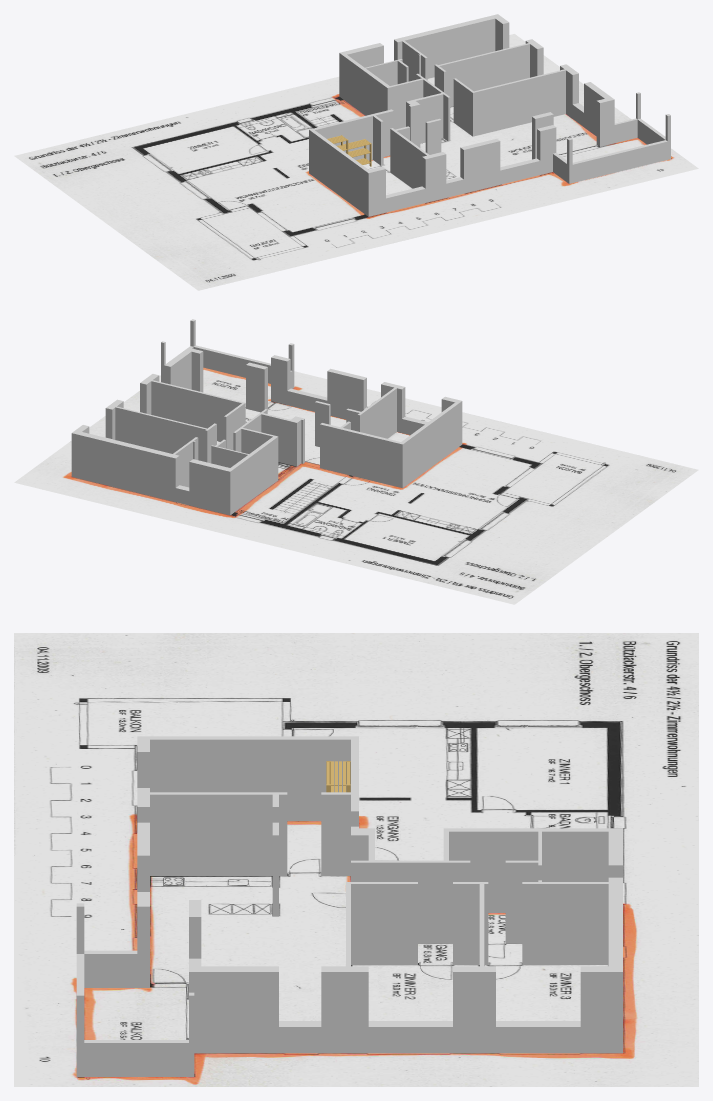
The model's file is Walls.fbx.
3 views of the same model, one above another, from view 1: azimuth 30°, elevation 25°; view 2: azimuth 150°, elevation 25°; view 3: azimuth 270°, elevation 25° (orthographic). The views are drawn at different scales.
Visible parts, largest first — view 1: GrundrissBütziackker, Plane; view 2: GrundrissBütziackker, Plane; view 3: GrundrissBütziackker, Plane.
Part boxes in pixels (x1,y1,x2,y2): GrundrissBütziackker: [14, 34, 698, 290]; Plane: [309, 14, 670, 216]; GrundrissBütziackker: [14, 367, 698, 604]; Plane: [71, 319, 462, 515]; GrundrissBütziackker: [14, 633, 698, 1086]; Plane: [76, 736, 622, 1076].
Bounding box in the file's own units: 5461 × 499 × 3482.
